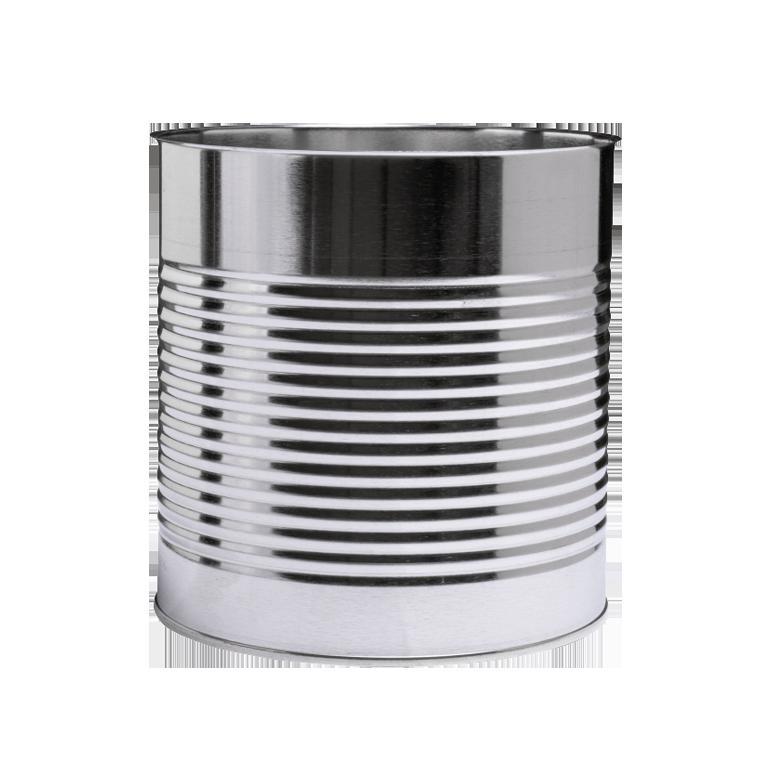metal: (150, 124, 620, 660)
